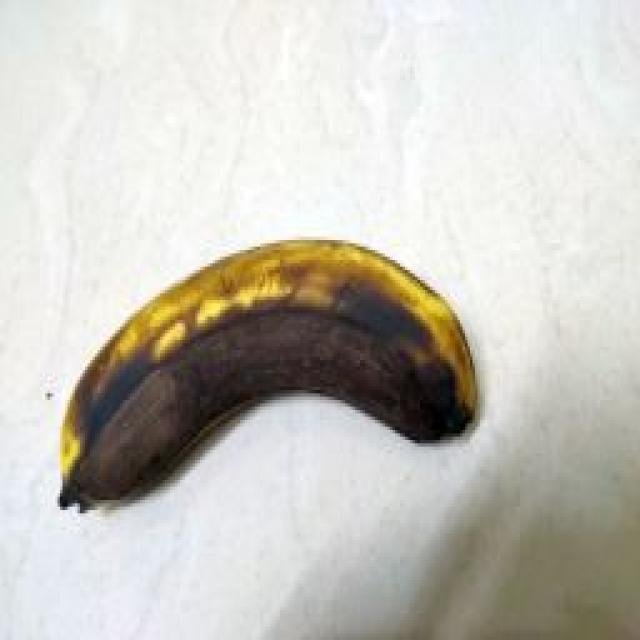Rotten: (39, 195, 488, 536)
